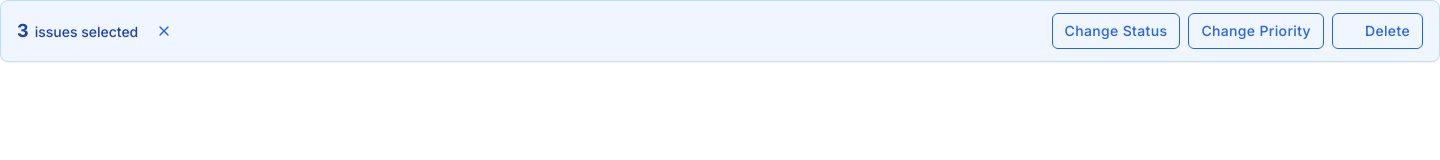
Scenario: BulkActionsBar › shows delete confirmation on first delete click
Click the button with aria-label "delete selected issues".
click(1378, 31)  # box [1332,13,1423,48]
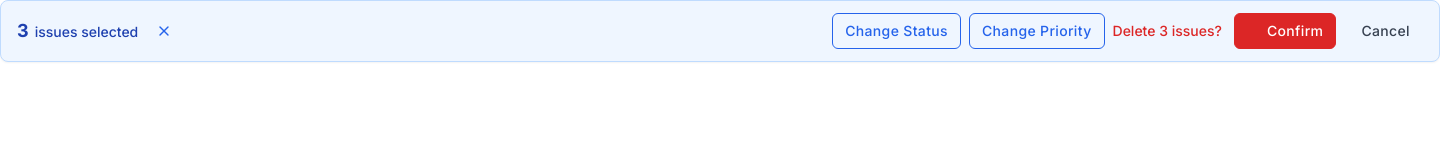
Now the text "Delete 3 issues?" is shown, box [1112,20,1222,41]
Now the button "Confirm" is shown, box [1234,13,1336,48]
Now the button "Cancel" is shown, box [1348,13,1423,48]
